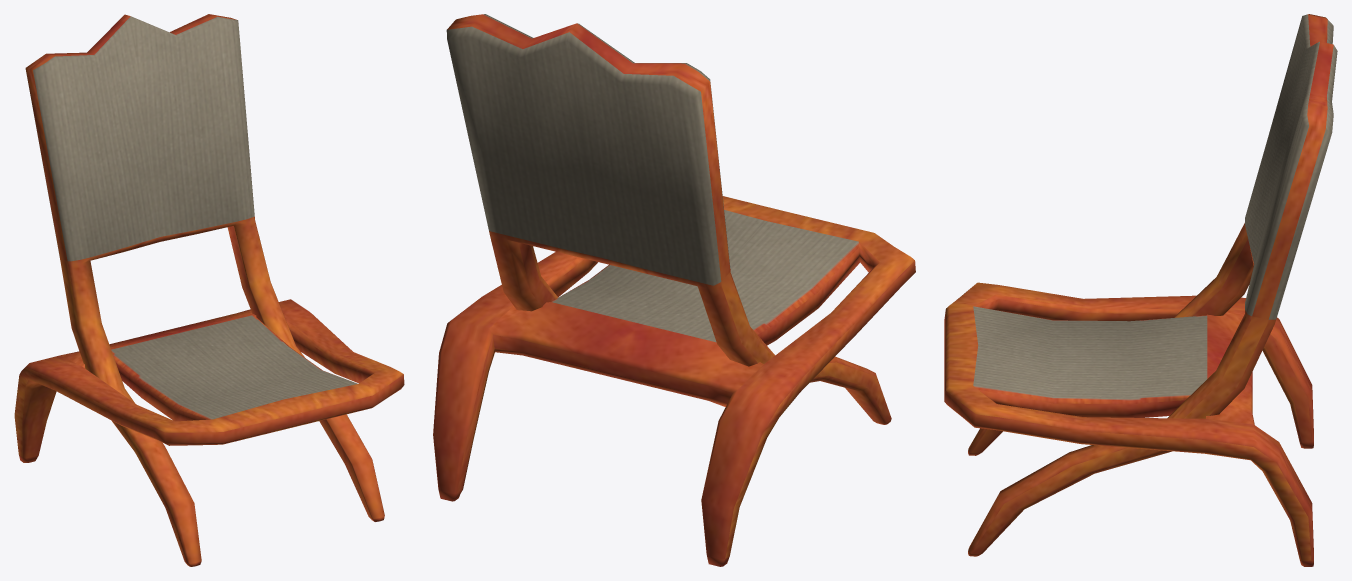
Rendered from tea_chair.glb.
The picture shows the model from 3 angles, left to right: view 1: azimuth 30°, elevation 25°; view 2: azimuth 150°, elevation 25°; view 3: azimuth 270°, elevation 25°; orthographic projection. The views are drawn at different scales.
Visible parts, largest first — view 1: folding_chair; view 2: folding_chair; view 3: folding_chair.
Boxes of the visible parts, box(x1,y1,x2,y2) form: folding_chair: box(14, 14, 404, 566); folding_chair: box(433, 14, 915, 566); folding_chair: box(944, 14, 1337, 566).
Size of what is drawn, in the model's own units: 0.6208 by 0.9131 by 0.7027.
1 material, 1 textured.
